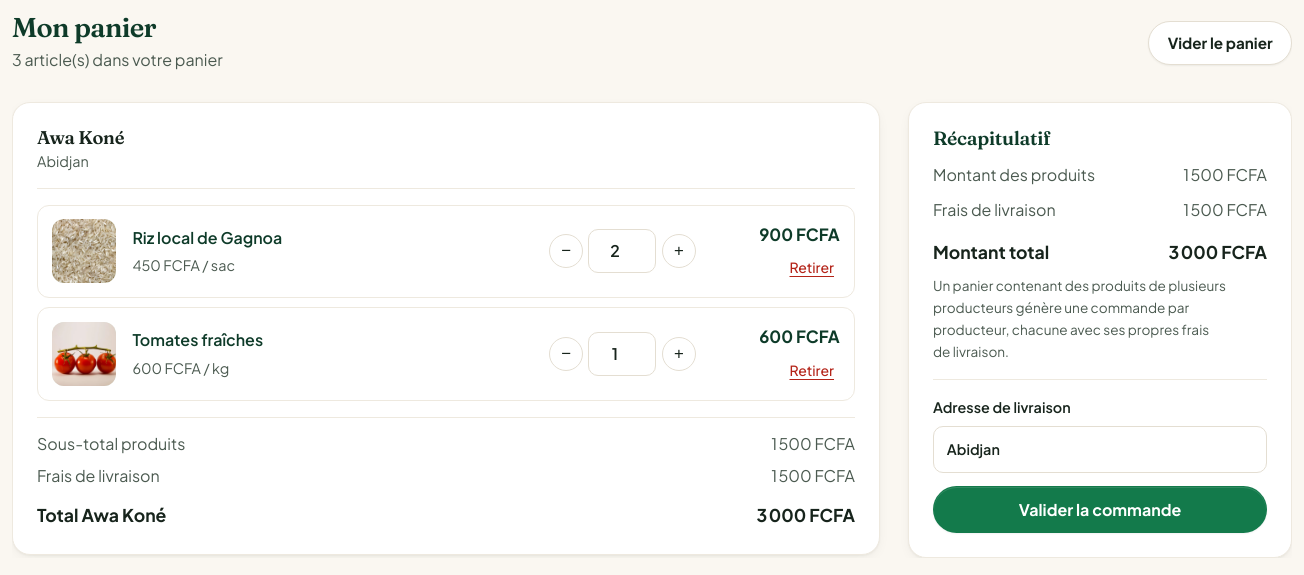
Test: PanierComponent (task 6.7) › recalcule le nombre d’articles et le total après suppression
Click the button "Retirer" below "900 FCFA": [812, 268] box [784,254,840,282]
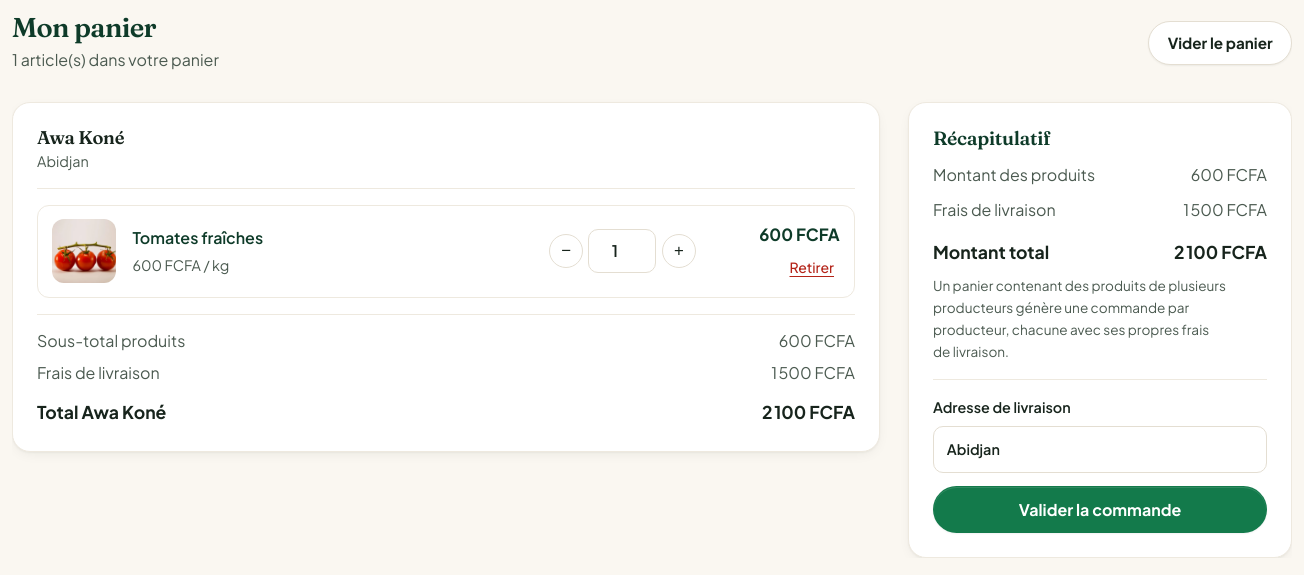
Expected: the text "1 article(s)" is shown, [12,49,219,70]
Expected: the number of list items is 1, [37,205,855,298]
